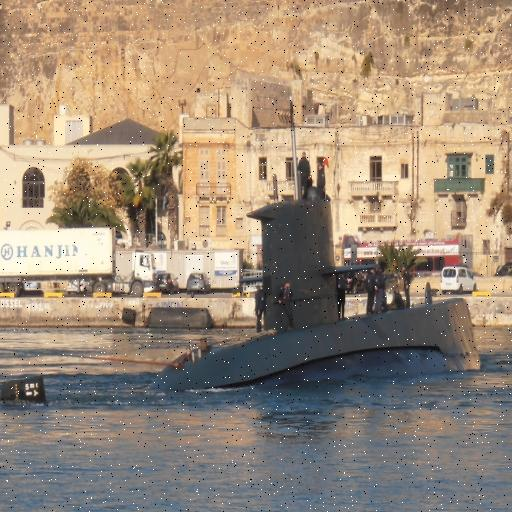submarine: (1, 80, 486, 406)
